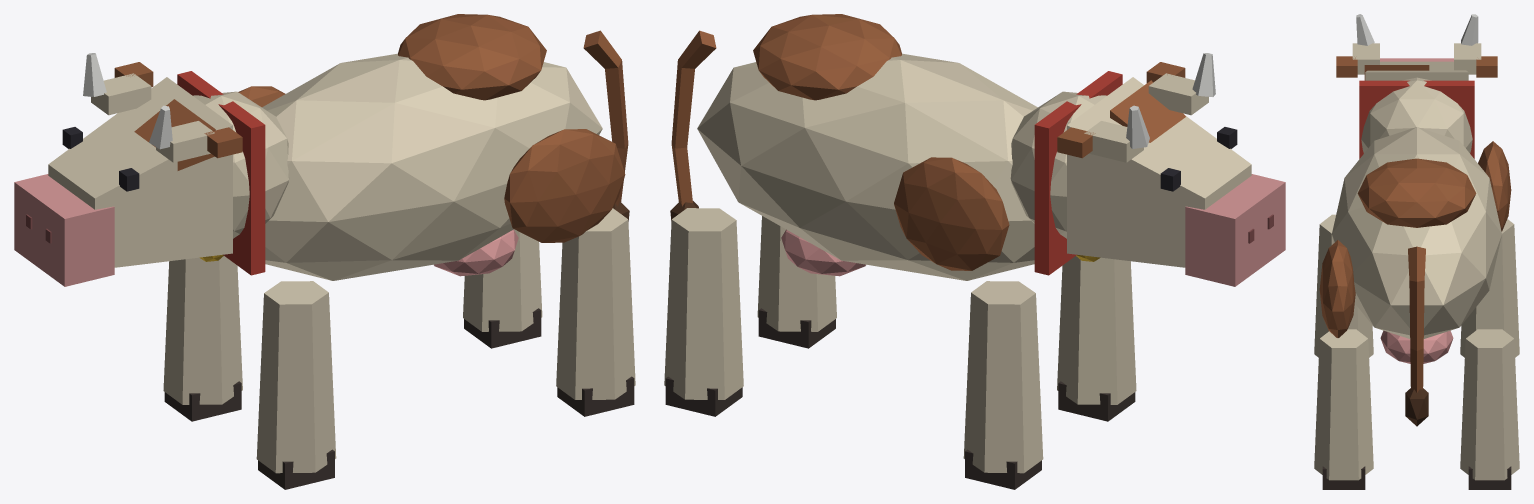
File: Decor_Beanstalk_Cow.fbx
3 renders of one model, left to right at view 1: azimuth 30°, elevation 25°; view 2: azimuth 150°, elevation 25°; view 3: azimuth 270°, elevation 25°, orthographic. The views are drawn at different scales.
Parts seen in each view (by area): view 1: Cow_Body; view 2: Cow_Body; view 3: Cow_Body.
Boxes of the visible parts, <box> form: Cow_Body: <box>14,14,635,489</box>; Cow_Body: <box>664,14,1285,489</box>; Cow_Body: <box>1314,14,1519,489</box>.
Size of the model in its own units: 16.35 by 10.3 by 6.3.
